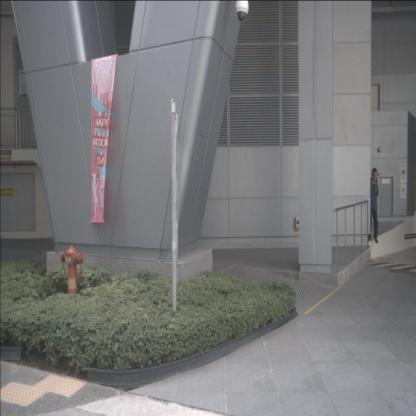human-pedestrian-adult: (366, 167, 379, 244)
